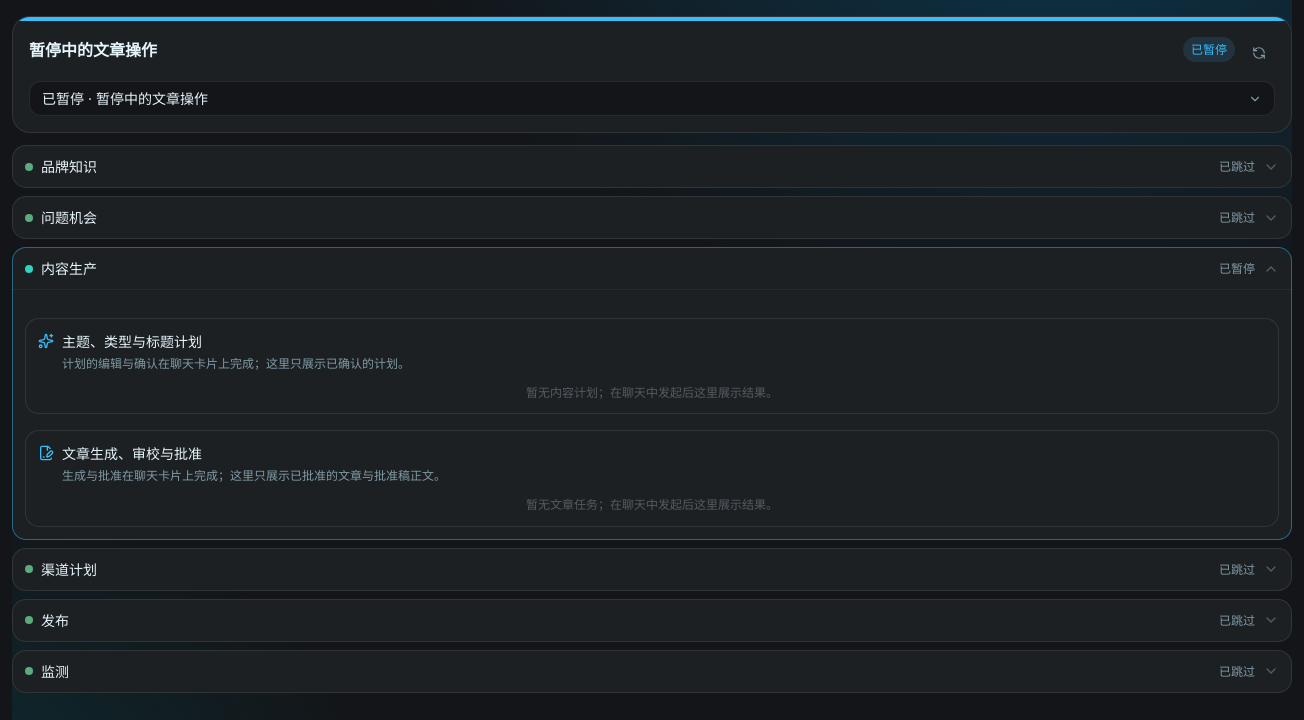
Test: XiaojingGeoOperationPanel › marks paused and failed phases with status dot text on the phase rows
Check: the element named "当前 GEO 操作" is shown, box [12,16,1292,133]
Check: the heading "暂停中的文章操作" is shown, box [29,40,157,60]
Click the button with aria-label "切换 GEO 操作" at [125, 98], box [29,81,1275,116]
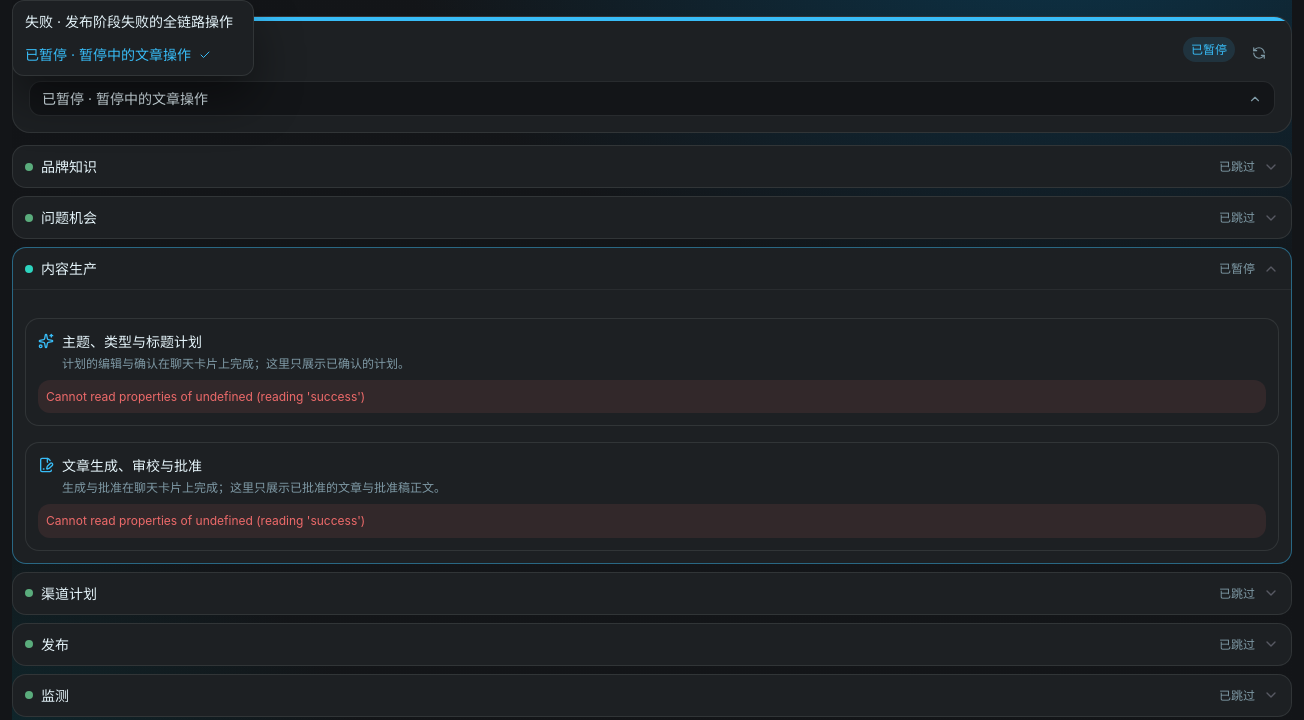
Click the button "失败 · 发布阶段失败的全链路操作" at [133, 22], box [13,5,253,38]
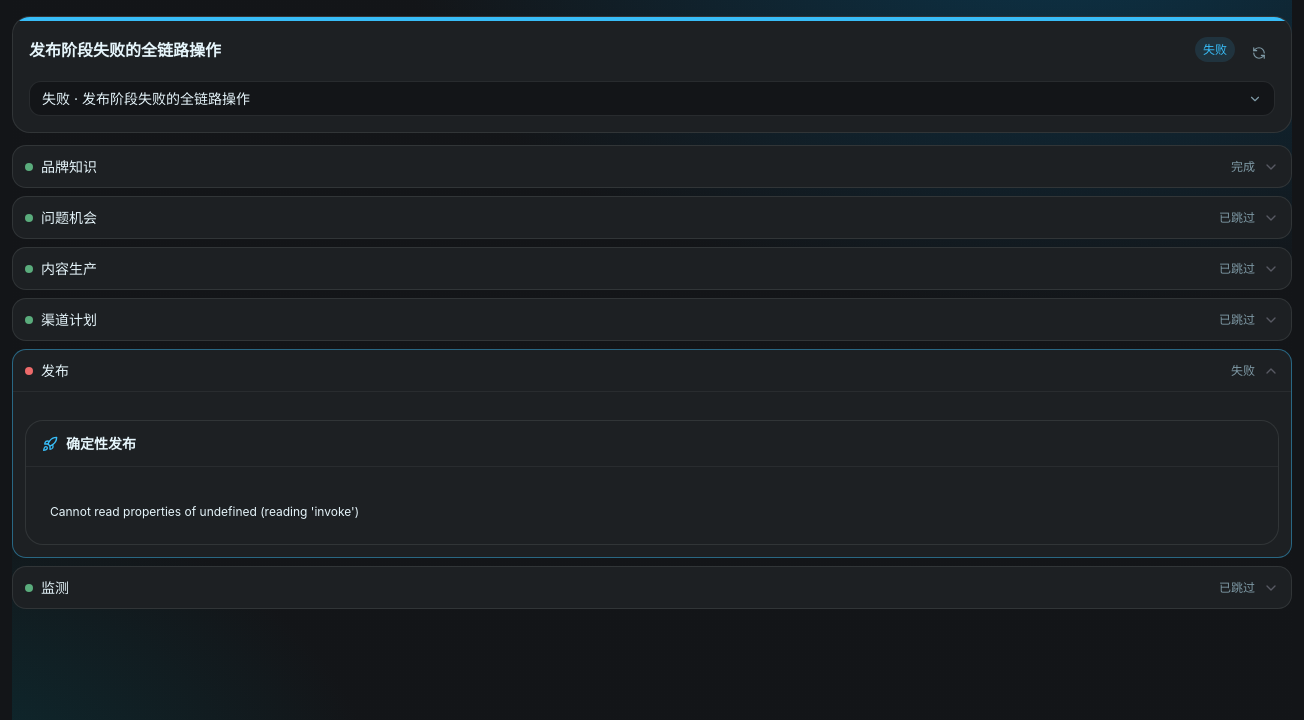
Check: the heading "发布阶段失败的全链路操作" is shown, box [29,40,221,60]
Check: the button "发布 失败" is shown, box [13,350,1291,391]
